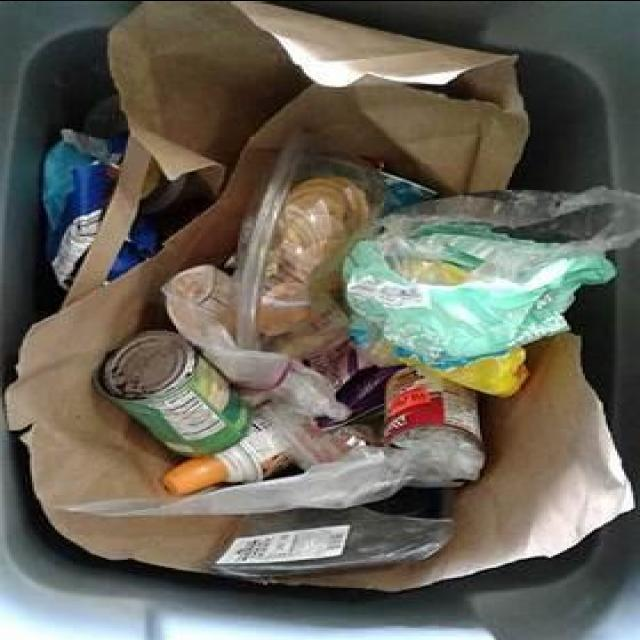Garbage: (7, 0, 640, 590)
Plastic_Bag: (344, 188, 637, 395), (234, 130, 383, 356), (162, 264, 351, 420), (62, 446, 411, 516), (214, 506, 456, 575), (217, 524, 351, 564)
Plastic_Container: (164, 418, 292, 494)
tin_box: (95, 330, 251, 455), (384, 367, 485, 486)
